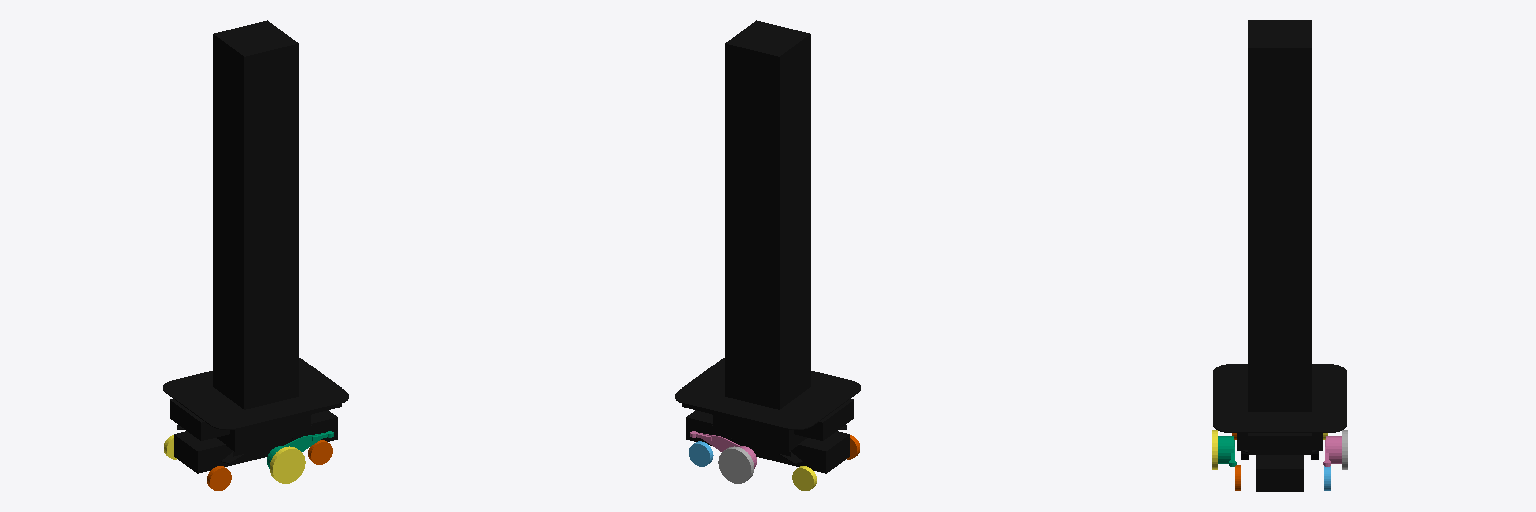
--- Facts derived from the render (not from the file) ---
The picture shows the robot from 3 angles, left to right: view 1: azimuth 30°, elevation 25°; view 2: azimuth 150°, elevation 25°; view 3: azimuth 270°, elevation 25°; orthographic projection.
Robot: rb_theron — 22 links, 21 joints (2 revolute, 10 continuous, 9 fixed); root link robot_base_footprint; default pose: every joint at zero.
Links seen in each view (by area): view 1: robot_pole_link, robot_base_link, robot_right_wheel_link, robot_rightrsupport; view 2: robot_pole_link, robot_base_link, robot_left_wheel_link, robot_leftrsupport; view 3: robot_pole_link, robot_base_link.
Boxes of the visible links, x1,y1,x2,y2 form: robot_pole_link: (213,20,298,409); robot_base_link: (163,358,348,473); robot_right_wheel_link: (270,446,305,483); robot_rightrsupport: (267,431,333,468); robot_pole_link: (725,20,810,409); robot_base_link: (675,358,860,473); robot_left_wheel_link: (718,446,753,483); robot_leftrsupport: (690,431,756,468); robot_pole_link: (1248,20,1311,411); robot_base_link: (1213,364,1346,491).
Bounding box of the posed robot: 0.649 × 0.528 × 1.85 m (x, y, z).
4 mesh visuals loaded from 7 distinct referenced files (1 binary STL, 3 Collada DAE); not drawn: 7 (reference not matched to a file when rendering).

The robot description file, URDF, robot "rb_theron":
<?xml version="1.0" encoding="utf-8"?>
<!-- =================================================================================== -->
<!-- |    This document was autogenerated by xacro from rb_theron_keonn.urdf.xacro     | -->
<!-- |    EDITING THIS FILE BY HAND IS NOT RECOMMENDED                                 | -->
<!-- =================================================================================== -->
<robot name="rb_theron">
  <!-- ***************** -->
  <!-- Imported elements -->
  <!-- ***************** -->
  <!-- First we import all posible elements defined in the urdf.xacro files. All these elements are defined as macro:xacros -->
  <!-- in kg-->
  <!-- in kg-->
  <!-- in kg-->
  <!-- in kg-->
  <!-- in kg-->
  <!-- in kg-->
  <!-- in kg-->
  <!-- source en.wikipedia.org/wiki/List_of_moments_of_inertia-->
  <!-- This file unifies all sensors that can be used on simulation, defined as xacro:macros -->
  <!-- Includes -->
  <!-- *************** -->
  <!-- Robots Elements -->
  <!-- *************** -->
  <!-- Here we create the robot elements using the xacro:macros imported at the beggining of this file -->
  <!-- this property is for the chassis -->
  <!-- xacro:property name="wheel_width" value="0.150" / -->
  <link name="robot_base_footprint">
    <visual>
      <origin rpy="0 0 0" xyz="0 0 0"/>
      <geometry>
        <box size="0.001 0.001 0.001"/>
      </geometry>
    </visual>
  </link>
  <joint name="robot_base_footprint_joint" type="fixed">
    <origin rpy="0 0 0" xyz="0 0 0.0606"/>
    <parent link="robot_base_footprint"/>
    <child link="robot_base_link"/>
  </joint>
  <!-- BASE_LINK -->
  <link name="robot_base_link">
    <inertial>
      <mass value="50.0"/>
      <origin xyz="-0.120 0 0"/>
      <inertia ixx="2.01041666667" ixy="0" ixz="0" iyy="2.55208333333" iyz="0" izz="2.55208333333"/>
    </inertial>
    <visual>
      <origin rpy="0 0 0" xyz="0 0 0"/>
      <geometry>
        <mesh filename="package://rb_theron_description/meshes/bases/theron_base.stl"/>
      </geometry>
      <material name="darkgrey">
        <color rgba="0.1 0.1 0.1 1"/>
      </material>
    </visual>
    <collision>
      <origin rpy="0 0 0 " xyz="0 0 0"/>
      <geometry>
        <!--box size="0.390 0.240 0.165"/-->
        <mesh filename="package://rb_theron_description/meshes/bases/theron_base.stl"/>
      </geometry>
    </collision>
  </link>
  <!-- <link name="${prefix}bottom_cover_link">
      <inertial>
        <mass value="2.0" />
        <origin xyz="0 0 0" />
	    <xacro:box_inertia_robot m="2" x="0.700" y="0.600" z="0.350"/>
      </inertial>
      <visual>
        <origin xyz="0 0 0" rpy="0 0 0" />
        <xacro:if value="${hq}">
          <geometry>
            <mesh filename="package://rb_theron_description/meshes/bases/mcq_prototype_bottom_cover.dae"/>
          </geometry>
        </xacro:if>
        <xacro:unless value="${hq}">
          <geometry>
            <box size="0.700 0.600 0.350"/>
          </geometry>
        </xacro:unless>
        <material name="darkgrey">
          <color rgba="0.1 0.1 0.1 1"/>
        </material>
      </visual>
      <collision>
        <origin xyz="0 0 0" rpy="0 0 0 " />
        <geometry>
          <mesh filename="package://rb_theron_description/meshes/bases/mcq_prototype_bottom_cover.dae"/>
        </geometry>
      </collision>
    </link> -->
  <!-- <joint name="${prefix}bottom_cover_joint" type="fixed">
       <origin rpy="0 0 0" xyz="0 0 0"/>
       <parent link="${prefix}base_link"/>
       <child link="${prefix}bottom_cover_link"/>
    </joint> -->
  <!-- DOCKING CONTACTS -->
  <!--joint name="${prefix}base_docking_joint" type="fixed">
      <origin xyz="0.030 0.000 0.068" rpy="0 0 0 " />
      <parent link="${prefix}front_cover_link"/>
      <child link="${prefix}base_docking_contact_link" />
    </joint-->
  <!-- DOCKING LINK -->
  <!--link name="${prefix}base_docking_contact_link" /-->
  <gazebo>
    <plugin filename="libgazebo_ros_control.so" name="ros_control">
      <!--robotNamespace>/robot</robotNamespace-->
      <robotParam>robot/robot_description</robotParam>
      <controlPeriod>0.001</controlPeriod>
      <robotSimType>gazebo_ros_control/DefaultRobotHWSim</robotSimType>
      <legacyModeNS>true</legacyModeNS>
    </plugin>
  </gazebo>
  <gazebo reference="robot_base_footprint">
    <material>Gazebo/Green</material>
  </gazebo>
  <gazebo reference="robot_base_link">
    <material>Gazebo/Grey</material>
  </gazebo>
  <gazebo reference="robot_front_cover_link">
    <material>Gazebo/Black</material>
  </gazebo>
  <!--ROCKER BOGIE SUPPORT -->
  <!--joint name="${prefix}joint_support" type="continuous">
      <parent link="${parent}"/>
      <child link="${prefix}support"/>
      <insert_block name="origin" />
      <axis xyz="0 1 0" rpy="0 0 ${M_PI}" />
      <limit effort="100" velocity="100"/>
      <joint_properties damping="0.1" friction="0.1"/>
	</joint -->
  <joint name="robot_rightjoint_rsupport" type="revolute">
    <parent link="robot_base_link"/>
    <child link="robot_rightrsupport"/>
    <origin rpy="0 0 0" xyz="0.1175 -0.1725 0.0428"/>
    <axis rpy="0 0 3.14159265359" xyz="0 1 0"/>
    <limit effort="100" lower="-0.5" upper="0.5" velocity="100"/>
    <joint_properties damping="0.1" friction="0.1"/>
  </joint>
  <link name="robot_rightrsupport">
    <visual>
      <origin rpy="0 0 0" xyz="0 0 0"/>
      <geometry>
        <mesh filename="package://rb_theron_description/meshes/rocker/mcq_prototype_rocker_r.dae"/>
      </geometry>
    </visual>
    <collision>
      <origin rpy="0 0 0" xyz="0 0 0"/>
      <geometry>
        <mesh filename="package://rb_theron_description/meshes/rocker/mcq_prototype_rocker_r.dae"/>
      </geometry>
    </collision>
    <inertial>
      <mass value="1.5"/>
      <origin xyz="0 0 0"/>
      <inertia ixx="5e-05" ixy="0" ixz="0" iyy="5e-05" iyz="0" izz="7.5e-05"/>
      <!--Check these values -->
    </inertial>
  </link>
  <!-- Transmission is important to link the joints and the controller -->
  <transmission name="robot_rightrsupport_joint_trans">
    <type>transmission_interface/SimpleTransmission</type>
    <joint name="robot_rightjoint_rsupport">
      <hardwareInterface>hardware_interface/EffortJointInterface</hardwareInterface>
    </joint>
    <actuator name="robot_rightrsupport_joint_motor">
      <mechanicalReduction>1</mechanicalReduction>
      <motorTorqueConstant>1</motorTorqueConstant>
    </actuator>
  </transmission>
  <!-- xacro:rubber_wheel prefix="$(arg prefix)wheel" parent="$(arg prefix)support" reflect="true" hq="${hq}">
		<origin xyz="${wheel_offset_x} ${wheel_offset_y} ${wheel_offset_z}" rpy="0 0 0"/>
	</xacro:rubber_wheel -->
  <!--WHEEL TIRE -->
  <joint name="robot_right_wheel_joint" type="continuous">
    <parent link="robot_rightrsupport"/>
    <child link="robot_right_wheel_link"/>
    <origin rpy="0 0 0" xyz="-0.1175 -0.079 -0.0428"/>
    <axis rpy="0 0 0" xyz="0 1 0"/>
    <limit effort="100" velocity="100"/>
    <joint_properties damping="0.0" friction="0.0"/>
  </joint>
  <link name="robot_right_wheel_link">
    <visual>
      <!-- HIGH RESOLUTION WHEELS -->
      <!-- LOW RESOLUTION WHEELS -->
      <origin rpy="1.57079632679 0 0" xyz="0 0 0"/>
      <geometry>
        <cylinder length="0.025" radius="0.0756"/>
      </geometry>
    </visual>
    <collision>
      <origin rpy="1.57079632679 0 0" xyz="0 0 0"/>
      <geometry>
        <cylinder length="0.025" radius="0.0756"/>
      </geometry>
    </collision>
    <inertial>
      <mass value="0.25"/>
      <origin xyz="0 0 0"/>
      <inertia ixx="0.000370230833333" ixy="0" ixz="0" iyy="0.000370230833333" iyz="0" izz="0.00071442"/>
    </inertial>
  </link>
  <!-- Transmission is important to link the joints and the controller (see rb_theron_control/config/rb_theron_control.yaml)-->
  <transmission name="robot_right_wheel_joint_trans">
    <type>transmission_interface/SimpleTransmission</type>
    <joint name="robot_right_wheel_joint">
      <!-- for the gazebo plugin -->
      <!--hardwareInterface>EffortJointInterface</hardwareInterface-->
      <!-- for ros control controller -->
      <hardwareInterface>hardware_interface/VelocityJointInterface</hardwareInterface>
    </joint>
    <actuator name="robot_right_wheel_joint_motor">
      <mechanicalReduction>1</mechanicalReduction>
      <motorTorqueConstant>20</motorTorqueConstant>
    </actuator>
  </transmission>
  <gazebo reference="robot_right_wheel_link">
    <!-- mu1 value="5.0"/>
			<mu2 value="0.5"/>
			<kp value="10000000.0" />
			<kd value="1.0" />
			<fdir1 value="1 0 0"/>
			<material>Gazebo/Yellow</material>
			<turnGravityOff>false</turnGravityOff -->
    <!-- mu1 value="5.0"/>
			<mu2 value="0.5"/ -->
    <mu1 value="100.0"/>
    <mu2 value="100.0"/>
    <!-- kp value="100000.0" / -->
    <kp value="500000.0"/>
    <kd value="1.0"/>
    <!-- fdir1 value="1 0 0"/ -->
    <material>Gazebo/Yellow</material>
    <turnGravityOff>false</turnGravityOff>
    <!--kp>500000.0</kp>
			<kd>10.0</kd>
			<mu1>10</mu1>
			<mu2>10</mu2>
			<fdir1>1 0 0</fdir1-->
    <!--minDepth>0.001</minDepth-->
    <!--material>Gazebo/Black</material-->
    <!--mu1 value="10"/>
			<mu2 value="5"/>
			<kp value="500000.0" />
			<kd value="10.0" />
			<fdir1 value="1 0 0"/>
			<material>Gazebo/Yellow</material>
			<turnGravityOff>false</turnGravityOff-->
  </gazebo>
  <!--gazebo reference="${name}_wheel_link">
			<kp>500000.0</kp>
			<kd>10.0</kd>
			<mu1>10</mu1>
			<mu2>10</mu2>
			<fdir1>1 0 0</fdir1>
			<maxVel>1.0</maxVel>
			<minDepth>0.003</minDepth>
			<material>Gazebo/Yellow</material>
			<turnGravityOff>false</turnGravityOff>
			<implicitSpringDamper>1</implicitSpringDamper>
		</gazebo-->
  <!-- xacro:caster prefix="$(arg prefix)left" parent="$(arg prefix)support" hq="${hq}">
		<origin xyz="${caster_offset_x} ${caster_offset_y} ${caster_offset_z}" rpy="0 0 0"/>
	</xacro:caster -->
  <!--CASTER SUPPORT -->
  <joint name="robot_rightcastorjoint_support" type="continuous">
    <parent link="robot_rightrsupport"/>
    <child link="robot_rightcastorsupport"/>
    <origin rpy="0 0 0" xyz="0.1175 0.01 0.002"/>
    <axis rpy="0 3.14159265359 0" xyz="0 0 1"/>
    <limit effort="100" velocity="100"/>
    <!-- joint_properties damping="1.5" friction="1.5"/ -->
    <dynamics damping="0" friction="0.01"/>
  </joint>
  <link name="robot_rightcastorsupport">
    <visual>
      <origin rpy="0 0 0" xyz="0 0 0"/>
      <geometry>
        <mesh filename="package://rb_theron_description/meshes/wheels/mcq_prototype_base_castor.dae"/>
      </geometry>
    </visual>
    <collision>
      <origin rpy="0 0 0" xyz="0 0 0"/>
      <geometry>
        <mesh filename="package://rb_theron_description/meshes/wheels/mcq_prototype_base_castor.dae"/>
      </geometry>
    </collision>
    <inertial>
      <mass value="1.5"/>
      <origin xyz="0 0 0"/>
      <inertia ixx="5e-05" ixy="0" ixz="0" iyy="5e-05" iyz="0" izz="7.5e-05"/>
      <!--Check these values -->
    </inertial>
  </link>
  <joint name="robot_rightcastorjoint_wheel" type="continuous">
    <parent link="robot_rightcastorsupport"/>
    <child link="robot_rightcastorwheel"/>
    <origin rpy="0 0 0" xyz="-0.033 0.0 -0.071"/>
    <axis rpy="0 0 0" xyz="0 1 0"/>
    <limit effort="100" velocity="100"/>
    <joint_properties damping="0.1" friction="0.1"/>
  </joint>
  <link name="robot_rightcastorwheel">
    <visual>
      <!-- HIGH RESOLUTION WHEELS -->
      <!-- xacro:if value="${hq}">
          <origin xyz="0 0 0" rpy="0 0 0" />
          <geometry>     
		<mesh filename="package://rb_theron_description/meshes/wheels/mcq_prototype_castor_wheel.dae" />
          </geometry>         
        </xacro:if -->
      <!-- LOW RESOLUTION WHEELS -->
      <!-- xacro:unless value="${hq}" -->
      <origin rpy="1.57079632679 0 0" xyz="0 0 0"/>
      <geometry>
        <cylinder length="0.025" radius="0.05"/>
        <!-- sphere radius="${caster_radius}"/ -->
      </geometry>
      <!-- /xacro:unless -->
    </visual>
    <collision>
      <origin rpy="1.57079632679 0 0" xyz="0 0 0"/>
      <!-- origin xyz="0 0 0" rpy="0 0 0" / -->
      <geometry>
        <!-- mesh filename="package://rb_theron_description/meshes/wheels/mcq_prototype_castor_wheel.dae" / -->
        <cylinder length="0.025" radius="0.05"/>
        <!-- sphere radius="${caster_radius}"/ -->
      </geometry>
      <surface>
        <bounce restitution_coefficient="1"/>
      </surface>
    </collision>
    <inertial>
      <mass value="0.25"/>
      <origin xyz="0 0 0"/>
      <inertia ixx="0.000169270833333" ixy="0" ixz="0" iyy="0.000169270833333" iyz="0" izz="0.0003125"/>
    </inertial>
  </link>
  <!-- Transmission is important to link the joints and the controller -->
  <transmission name="robot_rightcastorsupport_joint_trans">
    <type>transmission_interface/SimpleTransmission</type>
    <joint name="robot_rightcastorjoint_support">
      <hardwareInterface>hardware_interface/EffortJointInterface</hardwareInterface>
    </joint>
    <actuator name="robot_rightcastorsupport_joint_motor">
      <mechanicalReduction>1</mechanicalReduction>
      <motorTorqueConstant>1</motorTorqueConstant>
    </actuator>
  </transmission>
  <transmission name="robot_rightcastorwheel_joint_trans">
    <type>transmission_interface/SimpleTransmission</type>
    <joint name="robot_rightcastorjoint_wheel">
      <hardwareInterface>hardware_interface/EffortJointInterface</hardwareInterface>
    </joint>
    <actuator name="robot_rightcastorwheel_joint_motor">
      <mechanicalReduction>1</mechanicalReduction>
      <motorTorqueConstant>1</motorTorqueConstant>
    </actuator>
  </transmission>
  <!-- gazebo reference="${prefix}support">
			<mu1 value="5.0"/>
			<mu2 value="0.5"/>
			<kp value="10000000.0" />
			<kd value="1.0" />
			<fdir1 value="1 0 0"/>
      <turnGravityOff>false</turnGravityOff>
    </gazebo -->
  <gazebo reference="robot_rightcastor_wheel">
    <mu1 value="100.0"/>
    <mu2 value="100.0"/>
    <!-- kp value="10000000.0" / -->
    <kp value="100000.0"/>
    <kd value="100.0"/>
    <!-- fdir1 value="1 0 0"/ -->
    <material>Gazebo/Black</material>
    <turnGravityOff>false</turnGravityOff>
  </gazebo>
  <!-- gazebo reference="${prefix}support">
			<mu1 value="5.0"/>
			<mu2 value="0.5"/>
			<kp value="10000000.0" />
			<kd value="1.0" />
			<fdir1 value="1 0 0"/>
      <turnGravityOff>false</turnGravityOff>
    </gazebo>
    
     <gazebo reference="${prefix}_wheel">
			<mu1 value="5.0"/>
			<mu2 value="0.5"/>
			<kp value="10000000.0" />
			<kd value="1.0" />
			<fdir1 value="1 0 0"/>
      <turnGravityOff>false</turnGravityOff>
    </gazebo -->
  <!--ROCKER BOGIE SUPPORT -->
  <!--joint name="${prefix}joint_support" type="continuous">
      <parent link="${parent}"/>
      <child link="${prefix}support"/>
      <insert_block name="origin" />
      <axis xyz="0 1 0" rpy="0 0 ${M_PI}" />
      <limit effort="100" velocity="100"/>
      <joint_properties damping="0.1" friction="0.1"/>
	</joint -->
  <joint name="robot_leftjoint_rsupport" type="revolute">
    <parent link="robot_base_link"/>
    <child link="robot_leftrsupport"/>
    <origin rpy="0 0 0" xyz="0.1175 0.1725 0.0428"/>
    <axis rpy="0 0 3.14159265359" xyz="0 1 0"/>
    <limit effort="100" lower="-0.5" upper="0.5" velocity="100"/>
    <joint_properties damping="0.1" friction="0.1"/>
  </joint>
  <link name="robot_leftrsupport">
    <visual>
      <origin rpy="0 0 0" xyz="0 0 0"/>
      <geometry>
        <mesh filename="package://rb_theron_description/meshes/rocker/mcq_prototype_rocker_l.dae"/>
      </geometry>
    </visual>
    <collision>
      <origin rpy="0 0 0" xyz="0 0 0"/>
      <geometry>
        <mesh filename="package://rb_theron_description/meshes/rocker/mcq_prototype_rocker_l.dae"/>
      </geometry>
    </collision>
    <inertial>
      <mass value="1.5"/>
      <origin xyz="0 0 0"/>
      <inertia ixx="5e-05" ixy="0" ixz="0" iyy="5e-05" iyz="0" izz="7.5e-05"/>
      <!--Check these values -->
    </inertial>
  </link>
  <!-- Transmission is important to link the joints and the controller -->
  <transmission name="robot_leftrsupport_joint_trans">
    <type>transmission_interface/SimpleTransmission</type>
    <joint name="robot_leftjoint_rsupport">
      <hardwareInterface>hardware_interface/EffortJointInterface</hardwareInterface>
    </joint>
    <actuator name="robot_leftrsupport_joint_motor">
      <mechanicalReduction>1</mechanicalReduction>
      <motorTorqueConstant>1</motorTorqueConstant>
    </actuator>
  </transmission>
  <!-- xacro:rubber_wheel prefix="$(arg prefix)wheel" parent="$(arg prefix)support" reflect="true" hq="${hq}">
		<origin xyz="${wheel_offset_x} ${wheel_offset_y} ${wheel_offset_z}" rpy="0 0 0"/>
	</xacro:rubber_wheel -->
  <!--WHEEL TIRE -->
  <joint name="robot_left_wheel_joint" type="continuous">
    <parent link="robot_leftrsupport"/>
    <child link="robot_left_wheel_link"/>
    <origin rpy="0 0 0" xyz="-0.1175 0.079 -0.0428"/>
    <axis rpy="0 0 0" xyz="0 1 0"/>
    <limit effort="100" velocity="100"/>
    <joint_properties damping="0.0" friction="0.0"/>
  </joint>
  <link name="robot_left_wheel_link">
    <visual>
      <!-- HIGH RESOLUTION WHEELS -->
      <!-- LOW RESOLUTION WHEELS -->
      <origin rpy="1.57079632679 0 0" xyz="0 0 0"/>
      <geometry>
        <cylinder length="0.025" radius="0.0756"/>
      </geometry>
    </visual>
    <collision>
      <origin rpy="1.57079632679 0 0" xyz="0 0 0"/>
      <geometry>
        <cylinder length="0.025" radius="0.0756"/>
      </geometry>
    </collision>
    <inertial>
      <mass value="0.25"/>
      <origin xyz="0 0 0"/>
      <inertia ixx="0.000370230833333" ixy="0" ixz="0" iyy="0.000370230833333" iyz="0" izz="0.00071442"/>
    </inertial>
  </link>
  <!-- Transmission is important to link the joints and the controller (see rb_theron_control/config/rb_theron_control.yaml)-->
  <transmission name="robot_left_wheel_joint_trans">
    <type>transmission_interface/SimpleTransmission</type>
    <joint name="robot_left_wheel_joint">
      <!-- for the gazebo plugin -->
      <!--hardwareInterface>EffortJointInterface</hardwareInterface-->
      <!-- for ros control controller -->
      <hardwareInterface>hardware_interface/VelocityJointInterface</hardwareInterface>
    </joint>
    <actuator name="robot_left_wheel_joint_motor">
      <mechanicalReduction>1</mechanicalReduction>
      <motorTorqueConstant>20</motorTorqueConstant>
    </actuator>
  </transmission>
  <gazebo reference="robot_left_wheel_link">
    <!-- mu1 value="5.0"/>
			<mu2 value="0.5"/>
			<kp value="10000000.0" />
			<kd value="1.0" />
			<fdir1 value="1 0 0"/>
			<material>Gazebo/Yellow</material>
			<turnGravityOff>false</turnGravityOff -->
    <!-- mu1 value="5.0"/>
			<mu2 value="0.5"/ -->
    <mu1 value="100.0"/>
    <mu2 value="100.0"/>
    <!-- kp value="100000.0" / -->
    <kp value="500000.0"/>
    <kd value="1.0"/>
    <!-- fdir1 value="1 0 0"/ -->
    <material>Gazebo/Yellow</material>
    <turnGravityOff>false</turnGravityOff>
    <!--kp>500000.0</kp>
			<kd>10.0</kd>
			<mu1>10</mu1>
			<mu2>10</mu2>
			<fdir1>1 0 0</fdir1-->
    <!--minDepth>0.001</minDepth-->
    <!--material>Gazebo/Black</material-->
    <!--mu1 value="10"/>
			<mu2 value="5"/>
			<kp value="500000.0" />
			<kd value="10.0" />
			<fdir1 value="1 0 0"/>
			<material>Gazebo/Yellow</material>
			<turnGravityOff>false</turnGravityOff-->
  </gazebo>
  <!--gazebo reference="${name}_wheel_link">
			<kp>500000.0</kp>
			<kd>10.0</kd>
			<mu1>10</mu1>
			<mu2>10</mu2>
			<fdir1>1 0 0</fdir1>
			<maxVel>1.0</maxVel>
			<minDepth>0.003</minDepth>
			<material>Gazebo/Yellow</material>
			<turnGravityOff>false</turnGravityOff>
			<implicitSpringDamper>1</implicitSpringDamper>
		</gazebo-->
  <!-- xacro:caster prefix="$(arg prefix)left" parent="$(arg prefix)support" hq="${hq}">
		<origin xyz="${caster_offset_x} ${caster_offset_y} ${caster_offset_z}" rpy="0 0 0"/>
	</xacro:caster -->
  <!--CASTER SUPPORT -->
  <joint name="robot_leftcastorjoint_support" type="continuous">
    <parent link="robot_leftrsupport"/>
    <child link="robot_leftcastorsupport"/>
    <origin rpy="0 0 0" xyz="0.1175 0.01 0.002"/>
    <axis rpy="0 3.14159265359 0" xyz="0 0 1"/>
    <limit effort="100" velocity="100"/>
    <!-- joint_properties damping="1.5" friction="1.5"/ -->
    <dynamics damping="0" friction="0.01"/>
  </joint>
  <link name="robot_leftcastorsupport">
    <visual>
      <origin rpy="0 0 0" xyz="0 0 0"/>
      <geometry>
        <mesh filename="package://rb_theron_description/meshes/wheels/mcq_prototype_base_castor.dae"/>
      </geometry>
    </visual>
    <collision>
      <origin rpy="0 0 0" xyz="0 0 0"/>
      <geometry>
        <mesh filename="package://rb_theron_description/meshes/wheels/mcq_prototype_base_castor.dae"/>
      </geometry>
    </collision>
    <inertial>
      <mass value="1.5"/>
      <origin xyz="0 0 0"/>
      <inertia ixx="5e-05" ixy="0" ixz="0" iyy="5e-05" iyz="0" izz="7.5e-05"/>
      <!--Check these values -->
    </inertial>
  </link>
  <joint name="robot_leftcastorjoint_wheel" type="continuous">
    <parent link="robot_leftcastorsupport"/>
    <child link="robot_leftcastorwheel"/>
    <origin rpy="0 0 0" xyz="-0.033 0.0 -0.071"/>
    <axis rpy="0 0 0" xyz="0 1 0"/>
    <limit effort="100" velocity="100"/>
    <joint_properties damping="0.1" friction="0.1"/>
  </joint>
  <link name="robot_leftcastorwheel">
    <visual>
      <!-- HIGH RESOLUTION WHEELS -->
      <!-- xacro:if value="${hq}">
          <origin xyz="0 0 0" rpy="0 0 0" />
          <geometry>     
		<mesh filename="package://rb_theron_description/meshes/wheels/mcq_prototype_castor_wheel.dae" />
          </geometry>         
        </xacro:if -->
      <!-- LOW RESOLUTION WHEELS -->
      <!-- xacro:unless value="${hq}" -->
      <origin rpy="1.57079632679 0 0" xyz="0 0 0"/>
      <geometry>
        <cylinder length="0.025" radius="0.05"/>
        <!-- sphere radius="${caster_radius}"/ -->
      </geometry>
      <!-- /xacro:unless -->
    </visual>
    <collision>
      <origin rpy="1.57079632679 0 0" xyz="0 0 0"/>
      <!-- origin xyz="0 0 0" rpy="0 0 0" / -->
      <geometry>
        <!-- mesh filename="package://rb_theron_description/meshes/wheels/mcq_prototype_castor_wheel.dae" / -->
        <cylinder length="0.025" radius="0.05"/>
        <!-- sphere radius="${caster_radius}"/ -->
      </geometry>
      <surface>
        <bounce restitution_coefficient="1"/>
      </surface>
    </collision>
    <inertial>
      <mass value="0.25"/>
      <origin xyz="0 0 0"/>
      <inertia ixx="0.000169270833333" ixy="0" ixz="0" iyy="0.000169270833333" iyz="0" izz="0.0003125"/>
    </inertial>
  </link>
  <!-- Transmission is important to link the joints and the controller -->
  <transmission name="robot_leftcastorsupport_joint_trans">
    <type>transmission_interface/SimpleTransmission</type>
    <joint name="robot_leftcastorjoint_support">
      <hardwareInterface>hardware_interface/EffortJointInterface</hardwareInterface>
    </joint>
    <actuator name="robot_leftcastorsupport_joint_motor">
      <mechanicalReduction>1</mechanicalReduction>
      <motorTorqueConstant>1</motorTorqueConstant>
    </actuator>
  </transmission>
  <transmission name="robot_leftcastorwheel_joint_trans">
    <type>transmission_interface/SimpleTransmission</type>
    <joint name="robot_leftcastorjoint_wheel">
      <hardwareInterface>hardware_interface/EffortJointInterface</hardwareInterface>
    </joint>
    <actuator name="robot_leftcastorwheel_joint_motor">
      <mechanicalReduction>1</mechanicalReduction>
      <motorTorqueConstant>1</motorTorqueConstant>
    </actuator>
  </transmission>
  <!-- gazebo reference="${prefix}support">
			<mu1 value="5.0"/>
			<mu2 value="0.5"/>
			<kp value="10000000.0" />
			<kd value="1.0" />
			<fdir1 value="1 0 0"/>
      <turnGravityOff>false</turnGravityOff>
    </gazebo -->
  <gazebo reference="robot_leftcastor_wheel">
    <mu1 value="100.0"/>
    <mu2 value="100.0"/>
    <!-- kp value="10000000.0" / -->
    <kp value="100000.0"/>
    <kd value="100.0"/>
    <!-- fdir1 value="1 0 0"/ -->
    <material>Gazebo/Black</material>
    <turnGravityOff>false</turnGravityOff>
  </gazebo>
  <!-- gazebo reference="${prefix}support">
			<mu1 value="5.0"/>
			<mu2 value="0.5"/>
			<kp value="10000000.0" />
			<kd value="1.0" />
			<fdir1 value="1 0 0"/>
      <turnGravityOff>false</turnGravityOff>
    </gazebo>
    
     <gazebo reference="${prefix}_wheel">
			<mu1 value="5.0"/>
			<mu2 value="0.5"/>
			<kp value="10000000.0" />
			<kd value="1.0" />
			<fdir1 value="1 0 0"/>
      <turnGravityOff>false</turnGravityOff>
    </gazebo -->
  <!--CASTER SUPPORT -->
  <joint name="robot_leftjoint_support" type="continuous">
    <parent link="robot_base_link"/>
    <child link="robot_leftsupport"/>
    <origin rpy="0 0 0" xyz="-0.235 0.1725 0.0428"/>
    <axis rpy="0 3.14159265359 0" xyz="0 0 1"/>
    <limit effort="100" velocity="100"/>
    <!-- joint_properties damping="1.5" friction="1.5"/ -->
    <dynamics damping="0" friction="0.01"/>
  </joint>
  <link name="robot_leftsupport">
    <visual>
      <origin rpy="0 0 0" xyz="0 0 0"/>
      <geometry>
        <mesh filename="package://rb_theron_description/meshes/wheels/mcq_prototype_base_castor.dae"/>
      </geometry>
    </visual>
    <collision>
      <origin rpy="0 0 0" xyz="0 0 0"/>
      <geometry>
        <mesh filename="package://rb_theron_description/meshes/wheels/mcq_prototype_base_castor.dae"/>
      </geometry>
    </collision>
    <inertial>
      <mass value="1.5"/>
      <origin xyz="0 0 0"/>
      <inertia ixx="5e-05" ixy="0" ixz="0" iyy="5e-05" iyz="0" izz="7.5e-05"/>
      <!--Check these values -->
    </inertial>
  </link>
  <joint name="robot_leftjoint_wheel" type="continuous">
    <parent link="robot_leftsupport"/>
    <child link="robot_leftwheel"/>
    <origin rpy="0 0 0" xyz="-0.033 0.0 -0.071"/>
    <axis rpy="0 0 0" xyz="0 1 0"/>
    <limit effort="100" velocity="100"/>
    <joint_properties damping="0.1" friction="0.1"/>
  </joint>
  <link name="robot_leftwheel">
    <visual>
      <!-- HIGH RESOLUTION WHEELS -->
      <!-- xacro:if value="${hq}">
          <origin xyz="0 0 0" rpy="0 0 0" />
          <geometry>     
		<mesh filename="package://rb_theron_description/meshes/wheels/mcq_prototype_castor_wheel.dae" />
          </geometry>         
        </xacro:if -->
      <!-- LOW RESOLUTION WHEELS -->
      <!-- xacro:unless value="${hq}" -->
      <origin rpy="1.57079632679 0 0" xyz="0 0 0"/>
      <geometry>
        <cylinder length="0.025" radius="0.05"/>
        <!-- sphere radius="${caster_radius}"/ -->
      </geometry>
      <!-- /xacro:unless -->
    </visual>
    <collision>
      <origin rpy="1.57079632679 0 0" xyz="0 0 0"/>
      <!-- origin xyz="0 0 0" rpy="0 0 0" / -->
      <geometry>
        <!-- mesh filename="package://rb_theron_description/meshes/wheels/mcq_prototype_castor_wheel.dae" / -->
        <cylinder length="0.025" radius="0.05"/>
        <!-- sphere radius="${caster_radius}"/ -->
      </geometry>
      <surface>
        <bounce restitution_coefficient="1"/>
      </surface>
    </collision>
    <inertial>
      <mass value="0.25"/>
      <origin xyz="0 0 0"/>
      <inertia ixx="0.000169270833333" ixy="0" ixz="0" iyy="0.000169270833333" iyz="0" izz="0.0003125"/>
    </inertial>
  </link>
  <!-- Transmission is important to link the joints and the controller -->
  <transmission name="robot_leftsupport_joint_trans">
    <type>transmission_interface/SimpleTransmission</type>
    <joint name="robot_leftjoint_support">
      <hardwareInterface>hardware_interface/EffortJointInterface</hardwareInterface>
    </joint>
    <actuator name="robot_leftsupport_joint_motor">
      <mechanicalReduction>1</mechanicalReduction>
      <motorTorqueConstant>1</motorTorqueConstant>
    </actuator>
  </transmission>
  <transmission name="robot_leftwheel_joint_trans">
    <type>transmission_interface/SimpleTransmission</type>
    <joint name="robot_leftjoint_wheel">
      <hardwareInterface>hardware_interface/EffortJointInterface</hardwareInterface>
    </joint>
    <actuator name="robot_leftwheel_joint_motor">
      <mechanicalReduction>1</mechanicalReduction>
      <motorTorqueConstant>1</motorTorqueConstant>
    </actuator>
  </transmission>
  <!-- gazebo reference="${prefix}support">
			<mu1 value="5.0"/>
			<mu2 value="0.5"/>
			<kp value="10000000.0" />
			<kd value="1.0" />
			<fdir1 value="1 0 0"/>
      <turnGravityOff>false</turnGravityOff>
    </gazebo -->
  <gazebo reference="robot_left_wheel">
    <mu1 value="100.0"/>
    <mu2 value="100.0"/>
    <!-- kp value="10000000.0" / -->
    <kp value="100000.0"/>
    <kd value="100.0"/>
    <!-- fdir1 value="1 0 0"/ -->
    <material>Gazebo/Black</material>
    <turnGravityOff>false</turnGravityOff>
  </gazebo>
  <!--CASTER SUPPORT -->
  <joint name="robot_rightjoint_support" type="continuous">
    <parent link="robot_base_link"/>
    <child link="robot_rightsupport"/>
    <origin rpy="0 0 0" xyz="-0.235 -0.1725 0.0428"/>
    <axis rpy="0 3.14159265359 0" xyz="0 0 1"/>
    <limit effort="100" velocity="100"/>
    <!-- joint_properties damping="1.5" friction="1.5"/ -->
    <dynamics damping="0" friction="0.01"/>
  </joint>
  <link name="robot_rightsupport">
    <visual>
      <origin rpy="0 0 0" xyz="0 0 0"/>
      <geometry>
        <mesh filename="package://rb_theron_description/meshes/wheels/mcq_prototype_base_castor.dae"/>
      </geometry>
    </visual>
    <collision>
      <origin rpy="0 0 0" xyz="0 0 0"/>
      <geometry>
        <mesh filename="package://rb_theron_description/meshes/wheels/mcq_prototype_base_castor.dae"/>
      </geometry>
    </collision>
    <inertial>
      <mass value="1.5"/>
      <origin xyz="0 0 0"/>
      <inertia ixx="5e-05" ixy="0" ixz="0" iyy="5e-05" iyz="0" izz="7.5e-05"/>
      <!--Check these values -->
    </inertial>
  </link>
  <joint name="robot_rightjoint_wheel" type="continuous">
    <parent link="robot_rightsupport"/>
    <child link="robot_rightwheel"/>
    <origin rpy="0 0 0" xyz="-0.033 0.0 -0.071"/>
    <axis rpy="0 0 0" xyz="0 1 0"/>
    <limit effort="100" velocity="100"/>
    <joint_properties damping="0.1" friction="0.1"/>
  </joint>
  <link name="robot_rightwheel">
    <visual>
      <!-- HIGH RESOLUTION WHEELS -->
      <!-- xacro:if value="${hq}">
          <origin xyz="0 0 0" rpy="0 0 0" />
          <geometry>     
		<mesh filename="package://rb_theron_description/meshes/wheels/mcq_prototype_castor_wheel.dae" />
          </geometry>         
        </xacro:if -->
      <!-- LOW RESOLUTION WHEELS -->
      <!-- xacro:unless value="${hq}" -->
      <origin rpy="1.57079632679 0 0" xyz="0 0 0"/>
      <geometry>
        <cylinder length="0.025" radius="0.05"/>
        <!-- sphere radius="${caster_radius}"/ -->
      </geometry>
      <!-- /xacro:unless -->
    </visual>
    <collision>
      <origin rpy="1.57079632679 0 0" xyz="0 0 0"/>
      <!-- origin xyz="0 0 0" rpy="0 0 0" / -->
      <geometry>
        <!-- mesh filename="package://rb_theron_description/meshes/wheels/mcq_prototype_castor_wheel.dae" / -->
        <cylinder length="0.025" radius="0.05"/>
        <!-- sphere radius="${caster_radius}"/ -->
      </geometry>
      <surface>
        <bounce restitution_coefficient="1"/>
      </surface>
    </collision>
    <inertial>
      <mass value="0.25"/>
      <origin xyz="0 0 0"/>
      <inertia ixx="0.000169270833333" ixy="0" ixz="0" iyy="0.000169270833333" iyz="0" izz="0.0003125"/>
    </inertial>
  </link>
  <!-- Transmission is important to link the joints and the controller -->
  <transmission name="robot_rightsupport_joint_trans">
    <type>transmission_interface/SimpleTransmission</type>
    <joint name="robot_rightjoint_support">
      <hardwareInterface>hardware_interface/EffortJointInterface</hardwareInterface>
    </joint>
    <actuator name="robot_rightsupport_joint_motor">
      <mechanicalReduction>1</mechanicalReduction>
      <motorTorqueConstant>1</motorTorqueConstant>
    </actuator>
  </transmission>
  <transmission name="robot_rightwheel_joint_trans">
    <type>transmission_interface/SimpleTransmission</type>
    <joint name="robot_rightjoint_wheel">
      <hardwareInterface>hardware_interface/EffortJointInterface</hardwareInterface>
    </joint>
    <actuator name="robot_rightwheel_joint_motor">
      <mechanicalReduction>1</mechanicalReduction>
      <motorTorqueConstant>1</motorTorqueConstant>
    </actuator>
  </transmission>
  <!-- gazebo reference="${prefix}support">
			<mu1 value="5.0"/>
			<mu2 value="0.5"/>
			<kp value="10000000.0" />
			<kd value="1.0" />
			<fdir1 value="1 0 0"/>
      <turnGravityOff>false</turnGravityOff>
    </gazebo -->
  <gazebo reference="robot_right_wheel">
    <mu1 value="100.0"/>
    <mu2 value="100.0"/>
    <!-- kp value="10000000.0" / -->
    <kp value="100000.0"/>
    <kd value="100.0"/>
    <!-- fdir1 value="1 0 0"/ -->
    <material>Gazebo/Black</material>
    <turnGravityOff>false</turnGravityOff>
  </gazebo>
  <joint name="robot_pole_joint" type="fixed">
    <parent link="robot_base_link"/>
    <child link="robot_pole_link"/>
    <origin rpy="0 0 0" xyz="0.0 0.0 0.2208"/>
  </joint>
  <!-- BASE_LINK -->
  <link name="robot_pole_link">
    <inertial>
      <mass value="10.0"/>
      <origin xyz="0 0 0"/>
      <inertia ixx="2.05416666667" ixy="0" ixz="0" iyy="2.05416666667" iyz="0" izz="2.05416666667"/>
    </inertial>
    <visual>
      <origin rpy="0 0 0" xyz="0 0 0"/>
      <!-- in this case change origin -->
      <geometry>
        <!-- <box size="0.25 0.25 1.55"/> -->
        <mesh filename="package://rb_theron_description/meshes/pole/simple_pole.dae"/>
      </geometry>
      <material name="darkgrey">
        <color rgba="0.1 0.1 0.1 1"/>
      </material>
    </visual>
    <collision>
      <origin rpy="0 0 0 " xyz="0 0 0"/>
      <geometry>
        <!-- <box size="0.25 0.25 1.55"/> -->
        <mesh filename="package://rb_theron_description/meshes/pole/simple_pole.dae"/>
      </geometry>
    </collision>
  </link>
  <gazebo reference="robot_pole_link">
    <mu1 value="100.0"/>
    <mu2 value="100.0"/>
    <kp value="500000.0"/>
    <kd value="1.0"/>
    <material>Gazebo/Yellow</material>
    <turnGravityOff>false</turnGravityOff>
    <!--kp>500000.0</kp>
			<kd>10.0</kd>
			<mu1>10</mu1>
			<mu2>10</mu2>
			<fdir1>1 0 0</fdir1-->
    <!--minDepth>0.001</minDepth-->
    <!--material>Gazebo/Black</material-->
    <!--mu1 value="10"/>
			<mu2 value="5"/>
			<kp value="500000.0" />
			<kd value="10.0" />
			<fdir1 value="1 0 0"/>
			<material>Gazebo/Yellow</material>
			<turnGravityOff>false</turnGravityOff-->
  </gazebo>
  <joint name="robot_front_realsense_camera_base_joint" type="fixed">
    <origin rpy="0 0 0" xyz="0.3295 0.0 0.1898"/>
    <parent link="robot_base_link"/>
    <child link="robot_front_realsense_camera_base_link"/>
  </joint>
  <link name="robot_front_realsense_camera_base_link"/>
  <!-- camera body, with origin at bottom screw mount -->
  <joint name="robot_front_realsense_camera_joint" type="fixed">
    <parent link="robot_front_realsense_camera_base_link"/>
    <child link="robot_front_realsense_camera_link"/>
    <origin rpy="0 0 0" xyz="0.01 0.02 0"/>
    <child link="robot_front_realsense_camera_link"/>
  </joint>
  <link name="robot_front_realsense_camera_link">
    <!-- camera link is aligned with the infrared sensor 1 that is "in the middle of the camera", not the one in the edge -->
    <visual>
      <origin rpy="1.57079632679 0 1.57079632679" xyz="0.0149 -0.0175 0"/>
      <geometry>
        <!-- <box size="${d435_cam_width} ${d435_cam_height} ${d435_cam_depth}"/> -->
        <mesh filename="package://robotnik_sensors/meshes/intel_d435.dae"/>
      </geometry>
    </visual>
    <collision>
      <origin rpy="0 0 0" xyz="0 -0.0175 0"/>
      <geometry>
        <box size="0.02505 0.09 0.025"/>
      </geometry>
    </collision>
    <inertial>
      <origin rpy="0 0 0" xyz="0.0025 -0.015 0.0"/>
      <mass value="0.1"/>
      <inertia ixx="7.27083333333e-05" ixy="0" ixz="0" iyy="1.04166666667e-05" iyz="0" izz="7.27083333333e-05"/>
    </inertial>
  </link>
  <gazebo reference="robot_front_realsense_camera_link">
    <self_collide>0</self_collide>
    <enable_wind>0</enable_wind>
    <kinematic>0</kinematic>
    <gravity>1</gravity>
    <!--<mu>1</mu>-->
    <mu2>1</mu2>
    <fdir1>0 0 0</fdir1>
    <!--<slip1>0</slip1>
     <slip2>0</slip2>-->
    <kp>1e+13</kp>
    <kd>1</kd>
    <!--<max_vel>0.01</max_vel>
     <min_depth>0</min_depth>-->
    <sensor name="robot_front_realsense_cameracolor" type="camera">
      <camera name="robot_front_realsense_camera">
        <horizontal_fov>1.21125850088</horizontal_fov>
        <image>
          <width>1920</width>
          <height>1080</height>
          <format>RGB_INT8</format>
        </image>
        <clip>
          <near>0.1</near>
          <far>100</far>
        </clip>
        <noise>
          <type>gaussian</type>
          <mean>0.0</mean>
          <stddev>0.007</stddev>
        </noise>
      </camera>
      <always_on>1</always_on>
      <update_rate>30</update_rate>
      <visualize>1</visualize>
    </sensor>
    <sensor name="robot_front_realsense_cameraired1" type="camera">
      <camera name="robot_front_realsense_camera">
        <horizontal_fov>1.4870205227</horizontal_fov>
        <image>
          <width>1280</width>
          <height>720</height>
          <format>L_INT8</format>
        </image>
        <clip>
          <near>0.1</near>
          <far>100</far>
        </clip>
        <noise>
          <type>gaussian</type>
          <mean>0.0</mean>
          <stddev>0.05</stddev>
        </noise>
      </camera>
      <always_on>1</always_on>
      <update_rate>90</update_rate>
      <visualize>0</visualize>
    </sensor>
    <sensor name="robot_front_realsense_cameraired2" type="camera">
      <camera name="robot_front_realsense_camera">
        <horizontal_fov>1.4870205227</horizontal_fov>
        <image>
          <width>1280</width>
          <height>720</height>
          <format>L_INT8</format>
        </image>
        <clip>
          <near>0.1</near>
          <far>100</far>
        </clip>
        <noise>
          <type>gaussian</type>
          <mean>0.0</mean>
          <stddev>0.05</stddev>
        </noise>
      </camera>
      <always_on>1</always_on>
      <update_rate>90</update_rate>
      <visualize>0</visualize>
    </sensor>
    <sensor name="robot_front_realsense_cameradepth" type="depth">
      <camera name="robot_front_realsense_camera">
        <horizontal_fov>1.4870205227</horizontal_fov>
        <image>
          <width>1280</width>
          <height>720</height>
        </image>
        <clip>
          <near>0.1</near>
          <far>100</far>
        </clip>
        <noise>
          <type>gaussian</type>
          <mean>0.0</mean>
          <stddev>0.100</stddev>
        </noise>
      </camera>
      <always_on>1</always_on>
      <update_rate>90</update_rate>
      <visualize>0</visualize>
    </sensor>
  </gazebo>
  <gazebo>
    <plugin filename="librealsense_gazebo_plugin.so" name="front_realsense_camera">
      <prefix>robot_front_realsense_camera</prefix>
      <depthUpdateRate>60.0</depthUpdateRate>
      <colorUpdateRate>60.0</colorUpdateRate>
      <infraredUpdateRate>60.0</infraredUpdateRate>
      <depthTopicName>depth/image_raw</depthTopicName>
      <depthCameraInfoTopicName>depth/camera_info</depthCameraInfoTopicName>
      <colorTopicName>color/image_raw</colorTopicName>
      <colorCameraInfoTopicName>color/camera_info</colorCameraInfoTopicName>
      <infrared1TopicName>infra1/image_raw</infrared1TopicName>
      <infrared1CameraInfoTopicName>infra1/camera_info</infrared1CameraInfoTopicName>
      <infrared2TopicName>infra2/image_raw</infrared2TopicName>
      <infrared2CameraInfoTopicName>infra2/camera_info</infrared2CameraInfoTopicName>
      <colorOpticalframeName>robot_front_realsense_camera_color_optical_frame</colorOpticalframeName>
      <depthOpticalframeName>robot_front_realsense_camera_depth_optical_frame</depthOpticalframeName>
      <infrared1OpticalframeName>robot_front_realsense_camera_left_ir_optical_frame</infrared1OpticalframeName>
      <infrared2OpticalframeName>robot_front_realsense_camera_right_ir_optical_frame</infrared2OpticalframeName>
      <rangeMinDepth>0.2</rangeMinDepth>
      <rangeMaxDepth>10.0</rangeMaxDepth>
      <pointCloud>false</pointCloud>
      <pointCloudTopicName>depth/points</pointCloudTopicName>
      <pointCloudCutoff>0.5</pointCloudCutoff>
    </plugin>
  </gazebo>
  <joint name="robot_rear_realsense_camera_base_joint" type="fixed">
    <origin rpy="0 0 3.1416" xyz="-0.3295 0.0 0.1898"/>
    <parent link="robot_base_link"/>
    <child link="robot_rear_realsense_camera_base_link"/>
  </joint>
  <link name="robot_rear_realsense_camera_base_link"/>
  <!-- camera body, with origin at bottom screw mount -->
  <joint name="robot_rear_realsense_camera_joint" type="fixed">
    <parent link="robot_rear_realsense_camera_base_link"/>
    <child link="robot_rear_realsense_camera_link"/>
    <origin rpy="0 0 0" xyz="0.01 0.02 0"/>
    <child link="robot_rear_realsense_camera_link"/>
  </joint>
  <link name="robot_rear_realsense_camera_link">
    <!-- camera link is aligned with the infrared sensor 1 that is "in the middle of the camera", not the one in the edge -->
    <visual>
      <origin rpy="1.57079632679 0 1.57079632679" xyz="0.0149 -0.0175 0"/>
      <geometry>
        <!-- <box size="${d435_cam_width} ${d435_cam_height} ${d435_cam_depth}"/> -->
        <mesh filename="package://robotnik_sensors/meshes/intel_d435.dae"/>
      </geometry>
    </visual>
    <collision>
      <origin rpy="0 0 0" xyz="0 -0.0175 0"/>
      <geometry>
        <box size="0.02505 0.09 0.025"/>
      </geometry>
    </collision>
    <inertial>
      <origin rpy="0 0 0" xyz="0.0025 -0.015 0.0"/>
      <mass value="0.1"/>
      <inertia ixx="7.27083333333e-05" ixy="0" ixz="0" iyy="1.04166666667e-05" iyz="0" izz="7.27083333333e-05"/>
    </inertial>
  </link>
  <gazebo reference="robot_rear_realsense_camera_link">
    <self_collide>0</self_collide>
    <enable_wind>0</enable_wind>
    <kinematic>0</kinematic>
    <gravity>1</gravity>
    <!--<mu>1</mu>-->
    <mu2>1</mu2>
    <fdir1>0 0 0</fdir1>
    <!--<slip1>0</slip1>
     <slip2>0</slip2>-->
    <kp>1e+13</kp>
    <kd>1</kd>
    <!--<max_vel>0.01</max_vel>
     <min_depth>0</min_depth>-->
    <sensor name="robot_rear_realsense_cameracolor" type="camera">
      <camera name="robot_rear_realsense_camera">
        <horizontal_fov>1.21125850088</horizontal_fov>
        <image>
          <width>1920</width>
          <height>1080</height>
          <format>RGB_INT8</format>
        </image>
        <clip>
          <near>0.1</near>
          <far>100</far>
        </clip>
        <noise>
          <type>gaussian</type>
          <mean>0.0</mean>
          <stddev>0.007</stddev>
        </noise>
      </camera>
      <always_on>1</always_on>
      <update_rate>30</update_rate>
      <visualize>1</visualize>
    </sensor>
    <sensor name="robot_rear_realsense_cameraired1" type="camera">
      <camera name="robot_rear_realsense_camera">
        <horizontal_fov>1.4870205227</horizontal_fov>
        <image>
          <width>1280</width>
          <height>720</height>
          <format>L_INT8</format>
        </image>
        <clip>
          <near>0.1</near>
          <far>100</far>
        </clip>
        <noise>
          <type>gaussian</type>
          <mean>0.0</mean>
          <stddev>0.05</stddev>
        </noise>
      </camera>
      <always_on>1</always_on>
      <update_rate>90</update_rate>
      <visualize>0</visualize>
    </sensor>
    <sensor name="robot_rear_realsense_cameraired2" type="camera">
      <camera name="robot_rear_realsense_camera">
        <horizontal_fov>1.4870205227</horizontal_fov>
        <image>
          <width>1280</width>
          <height>720</height>
          <format>L_INT8</format>
        </image>
        <clip>
          <near>0.1</near>
          <far>100</far>
        </clip>
        <noise>
          <type>gaussian</type>
          <mean>0.0</mean>
          <stddev>0.05</stddev>
        </noise>
      </camera>
      <always_on>1</always_on>
      <update_rate>90</update_rate>
      <visualize>0</visualize>
    </sensor>
    <sensor name="robot_rear_realsense_cameradepth" type="depth">
      <camera name="robot_rear_realsense_camera">
        <horizontal_fov>1.4870205227</horizontal_fov>
        <image>
          <width>1280</width>
          <height>720</height>
        </image>
        <clip>
          <near>0.1</near>
          <far>100</far>
        </clip>
        <noise>
          <type>gaussian</type>
          <mean>0.0</mean>
          <stddev>0.100</stddev>
        </noise>
      </camera>
      <always_on>1</always_on>
      <update_rate>90</update_rate>
      <visualize>0</visualize>
    </sensor>
  </gazebo>
  <gazebo>
    <plugin filename="librealsense_gazebo_plugin.so" name="rear_realsense_camera">
      <prefix>robot_rear_realsense_camera</prefix>
      <depthUpdateRate>60.0</depthUpdateRate>
      <colorUpdateRate>60.0</colorUpdateRate>
      <infraredUpdateRate>60.0</infraredUpdateRate>
      <depthTopicName>depth/image_raw</depthTopicName>
      <depthCameraInfoTopicName>depth/camera_info</depthCameraInfoTopicName>
      <colorTopicName>color/image_raw</colorTopicName>
      <colorCameraInfoTopicName>color/camera_info</colorCameraInfoTopicName>
      <infrared1TopicName>infra1/image_raw</infrared1TopicName>
      <infrared1CameraInfoTopicName>infra1/camera_info</infrared1CameraInfoTopicName>
      <infrared2TopicName>infra2/image_raw</infrared2TopicName>
      <infrared2CameraInfoTopicName>infra2/camera_info</infrared2CameraInfoTopicName>
      <colorOpticalframeName>robot_rear_realsense_camera_color_optical_frame</colorOpticalframeName>
      <depthOpticalframeName>robot_rear_realsense_camera_depth_optical_frame</depthOpticalframeName>
      <infrared1OpticalframeName>robot_rear_realsense_camera_left_ir_optical_frame</infrared1OpticalframeName>
      <infrared2OpticalframeName>robot_rear_realsense_camera_right_ir_optical_frame</infrared2OpticalframeName>
      <rangeMinDepth>0.2</rangeMinDepth>
      <rangeMaxDepth>10.0</rangeMaxDepth>
      <pointCloud>false</pointCloud>
      <pointCloudTopicName>depth/points</pointCloudTopicName>
      <pointCloudCutoff>0.5</pointCloudCutoff>
    </plugin>
  </gazebo>
  <joint name="robot_imu_joint" type="fixed">
    <axis xyz="1 0 0"/>
    <!--origin xyz="0 0 0.2825"/-->
    <origin rpy="0 0 0" xyz="-0.1975 0.0 0.1598"/>
    <parent link="robot_base_link"/>
    <child link="robot_imu_link"/>
  </joint>
  <link name="robot_imu_link">
    <inertial>
      <origin rpy="0 0 0" xyz="0.0 0 0.01"/>
      <mass value="0.05"/>
      <inertia ixx="3.33333333333e-06" ixy="0" ixz="0" iyy="3.33333333333e-06" iyz="0" izz="3.33333333333e-06"/>
    </inertial>
    <visual>
      <origin rpy="0 0 0" xyz="0 0 0"/>
      <geometry>
        <box size="0.001 0.001 0.001"/>
      </geometry>
    </visual>
    <collision>
      <origin rpy="0 0 0" xyz="0 0 0"/>
      <geometry>
        <box size=".001 .001 .001"/>
      </geometry>
    </collision>
  </link>
  <gazebo>
    <plugin filename="libhector_gazebo_ros_imu.so" name="robot_imu_controller">
      <alwaysOn>true</alwaysOn>
      <topicName>imu/data</topicName>
      <serviceName>robot_imuimu/service</serviceName>
      <bodyName>robot_imu_link</bodyName>
      <frameId>robot_imu_link</frameId>
      <updateRate>50.0</updateRate>
      <gaussianNoise>0.00</gaussianNoise>
      <yawOffset>0.0</yawOffset>
      <yawDrift>0.0</yawDrift>
      <yawGaussianNoise>0.0</yawGaussianNoise>
      <!-- angular velocities parameters -->
      <rateOffset>0.0 0.0 0.0</rateOffset>
      <rateDrift>0.0 0.0 0.0</rateDrift>
      <rateGaussianNoise>0.0 0.0 0.0</rateGaussianNoise>
      <!-- linear accelerations parameters -->
      <accelOffset>0.0 0.0 0.0</accelOffset>
      <accelDrift>0.0 0.0 0.0</accelDrift>
      <accelGaussianNoise>0.0 0.0 0.0</accelGaussianNoise>
    </plugin>
  </gazebo>
  <joint name="robot_lidar_3d_base_joint" type="fixed">
    <origin rpy="0 -1.5707 3.1416" xyz="0.132 0.0 1.003"/>
    <parent link="robot_pole_link"/>
    <child link="robot_lidar_3d_base_link"/>
  </joint>
  <link name="robot_lidar_3d_base_link">
    <visual>
      <!-- origin xyz="0 0 0" rpy="0 0 1.5708"/ -->
      <origin rpy="0 0 0" xyz="0 0 0"/>
      <geometry>
        <mesh filename="package://robotnik_sensors/meshes/rs_bpearl.stl"/>
      </geometry>
      <material name="blackgray_color">
        <color rgba="0.25 0.25 0.25 1"/>
      </material>
    </visual>
    <collision>
      <origin rpy="0 0 0" xyz="0 0 0"/>
      <geometry>
        <mesh filename="package://robotnik_sensors/meshes/rs_bpearl.stl"/>
      </geometry>
    </collision>
    <inertial>
      <!-- The following are not reliable values, and should not be used for modeling -->
      <mass value="0.92"/>
      <origin xyz="0 0 0.055"/>
      <inertia ixx="0.00187227666667" ixy="0" ixz="0" iyy="0.00187227666667" iyz="0" izz="0.00188922"/>
    </inertial>
  </link>
  <joint name="robot_lidar_3d_joint" type="fixed">
    <parent link="robot_lidar_3d_base_link"/>
    <child link="robot_lidar_3d_link"/>
    <origin rpy="0 0 0" xyz="0 0 0.09427"/>
  </joint>
  <link name="robot_lidar_3d_link"/>
  <gazebo reference="robot_lidar_3d_base_link">
    <visual>
      <material>
        <ambient>0.5 0.5 0.5 1.0</ambient>
        <diffuse>0.250754 0.250754 0.250754 1.0</diffuse>
        <specular>0.2508273 0.2508273 0.2508273 1.0</specular>
        <emissive>0.0 0.0 0.0 0.0</emissive>
      </material>
    </visual>
  </gazebo>
  <gazebo reference="robot_lidar_3d_link">
    <visual>
      <material>
        <ambient>1.2 0.2 0.2 1.0</ambient>
        <diffuse>0.250754 0.250754 0.250754 1.0</diffuse>
        <specular>0.2508273 0.2508273 0.2508273 1.0</specular>
        <emissive>0.0 0.0 0.0 0.0</emissive>
      </material>
    </visual>
    <sensor name="robot_lidar_3d_sensor" type="gpu_ray">
      <pose>0 0 0 0 0 0.0</pose>
      <visualize>false</visualize>
      <update_rate>20.0</update_rate>
      <ray>
        <scan>
          <horizontal>
            <!-- for a high quality simulation -->
            <samples>900</samples>
            <min_angle>-3.14159265359</min_angle>
            <max_angle>3.14159265359</max_angle>
          </horizontal>
          <vertical>
            <samples>32</samples>
            <min_angle>-0.0872664625997</min_angle>
            <!-- bpearl has 90 degrees of vertical field of view-->
            <max_angle> 1.4835298642</max_angle>
          </vertical>
        </scan>
        <range>
          <min>0.1</min>
          <max>30.0</max>
          <resolution>0.01</resolution>
        </range>
        <noise>
          <type>none</type>
        </noise>
      </ray>
      <plugin filename="libgazebo_ros_velodyne_gpu_laser.so" name="robot_lidar_3d_controller">
        <topicName>lidar_3d/points</topicName>
        <frameName>/robot_lidar_3d_link</frameName>
        <gaussianNoise>0.008</gaussianNoise>
      </plugin>
    </sensor>
  </gazebo>
</robot>
